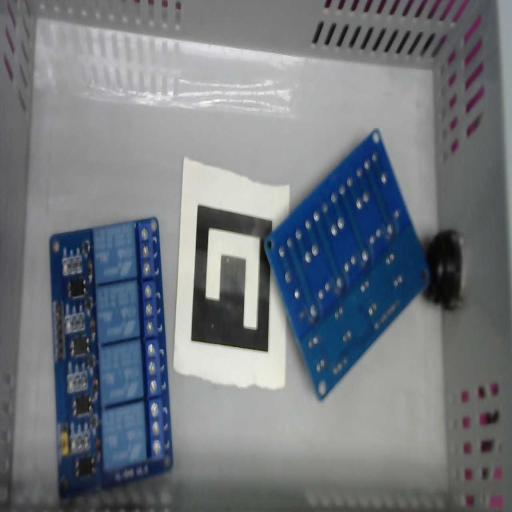QR: (173, 156, 290, 390)
relay_module: (264, 127, 431, 401), (49, 216, 173, 500)
